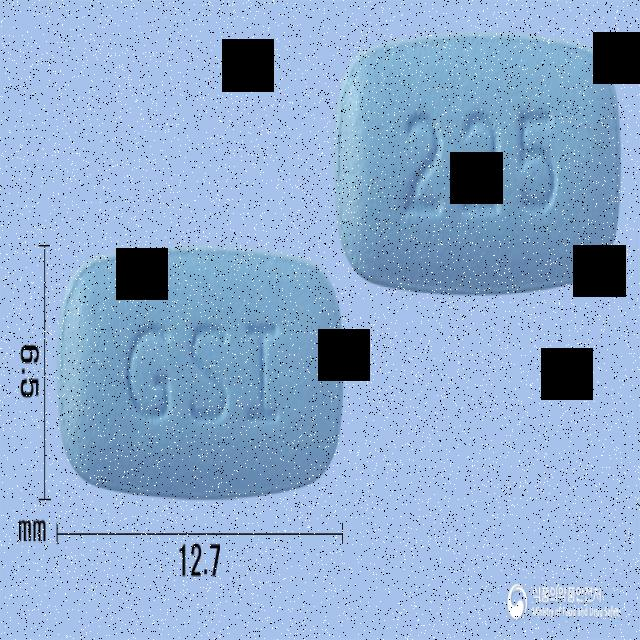Descovy: (332, 29, 622, 294), (58, 243, 347, 503)
